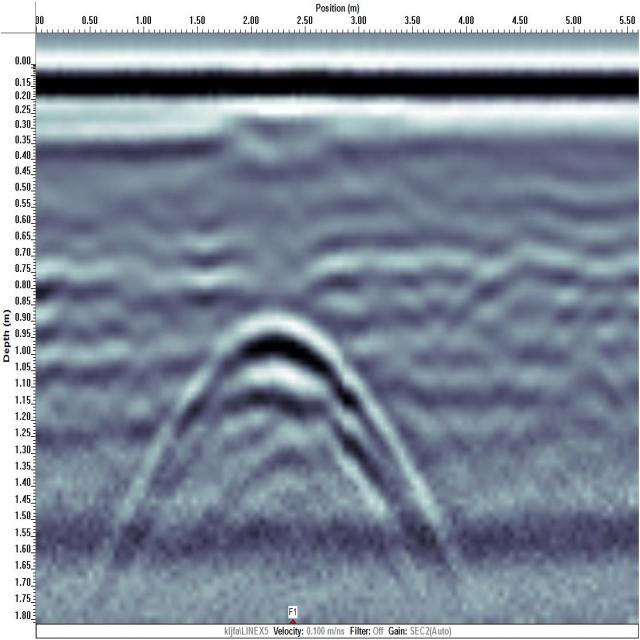hyperbola: (142, 305, 431, 558)
